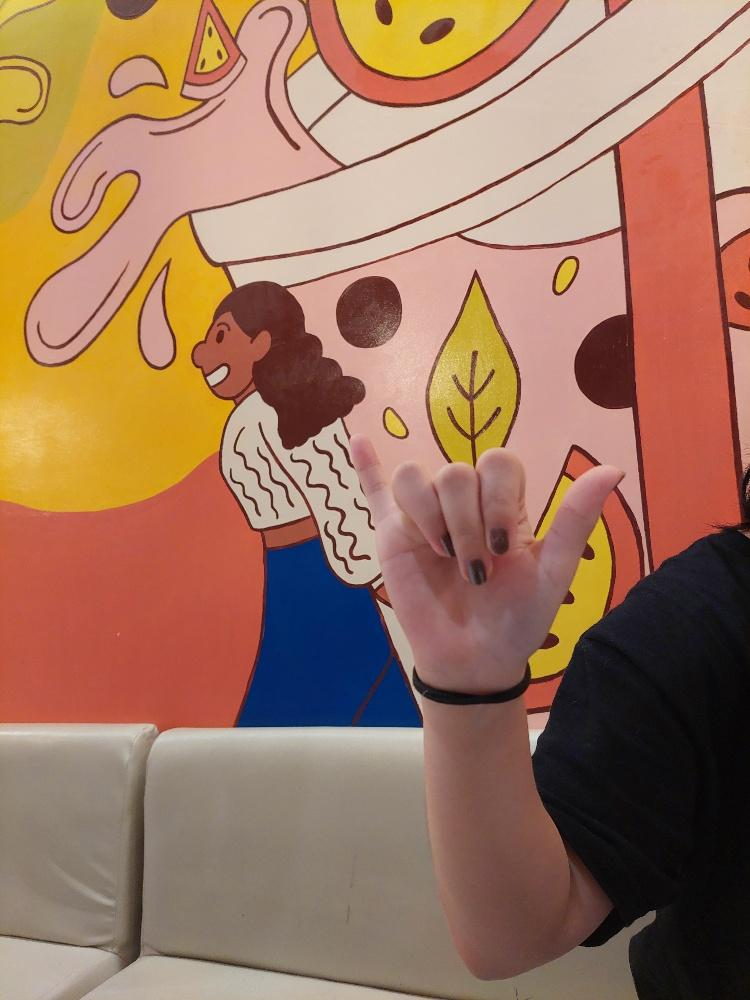y: (345, 428, 628, 686)
